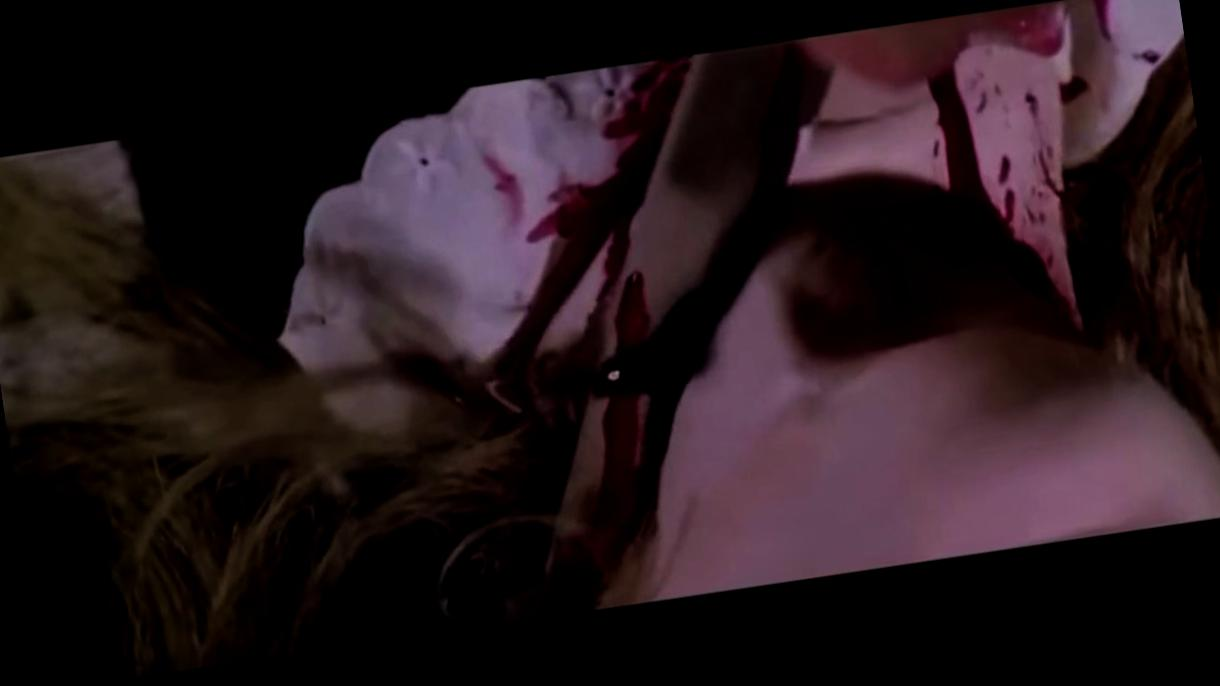Fire: (435, 0, 1184, 627)
